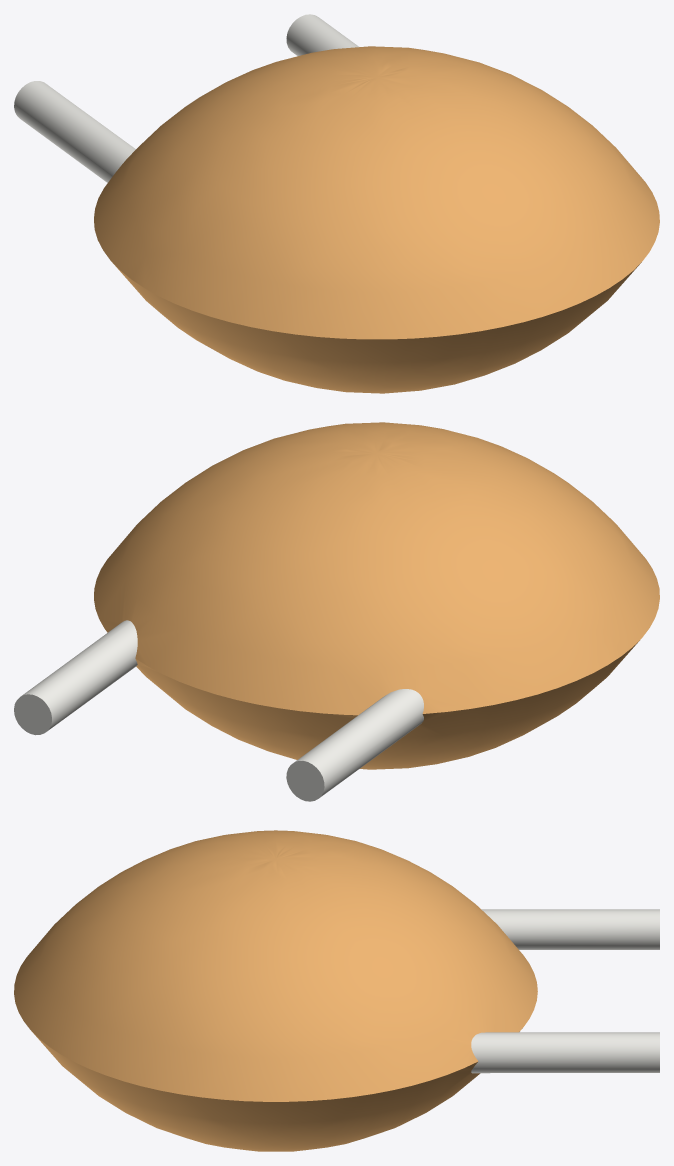
File: C_Disc_D9.0mm_W5.0mm_P5.00mm.glb
The picture shows the model from 3 angles, top to bottom: view 1: azimuth 30°, elevation 25°; view 2: azimuth 150°, elevation 25°; view 3: azimuth 270°, elevation 25°; orthographic projection. The views are drawn at different scales.
Parts seen in each view (by area): view 1: Shape_IndexedFaceSet.003, Shape_IndexedFaceSet.002, Shape_IndexedFaceSet.001, Shape_IndexedFaceSet.004; view 2: Shape_IndexedFaceSet.003, Shape_IndexedFaceSet.002, Shape_IndexedFaceSet.001, Shape_IndexedFaceSet.004, Shape_IndexedFaceSet.005, Shape_IndexedFaceSet; view 3: Shape_IndexedFaceSet.003, Shape_IndexedFaceSet.002, Shape_IndexedFaceSet.004, Shape_IndexedFaceSet.001.
Boxes of the visible parts, x1,y1,x2,y2 form: Shape_IndexedFaceSet.003: (94, 46, 659, 339); Shape_IndexedFaceSet.002: (113, 262, 641, 393); Shape_IndexedFaceSet.001: (14, 81, 135, 182); Shape_IndexedFaceSet.004: (286, 14, 358, 55); Shape_IndexedFaceSet.003: (94, 422, 659, 715); Shape_IndexedFaceSet.002: (136, 640, 639, 769); Shape_IndexedFaceSet.001: (295, 689, 423, 797); Shape_IndexedFaceSet.004: (22, 620, 137, 730); Shape_IndexedFaceSet.005: (14, 694, 51, 735); Shape_IndexedFaceSet: (286, 761, 324, 801); Shape_IndexedFaceSet.003: (14, 830, 537, 1101); Shape_IndexedFaceSet.002: (31, 1028, 522, 1151); Shape_IndexedFaceSet.004: (471, 1032, 659, 1073); Shape_IndexedFaceSet.001: (481, 909, 659, 949).
Size of the model in its own units: 3.54 by 1.97 by 4.37.
